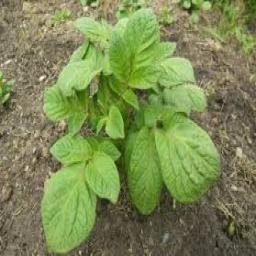Leaf: (154, 116, 221, 203), (41, 163, 97, 253), (128, 126, 162, 215), (123, 9, 160, 82), (87, 151, 120, 202), (49, 134, 93, 164), (109, 31, 130, 83), (128, 64, 163, 89), (105, 105, 126, 139), (96, 141, 121, 160)
